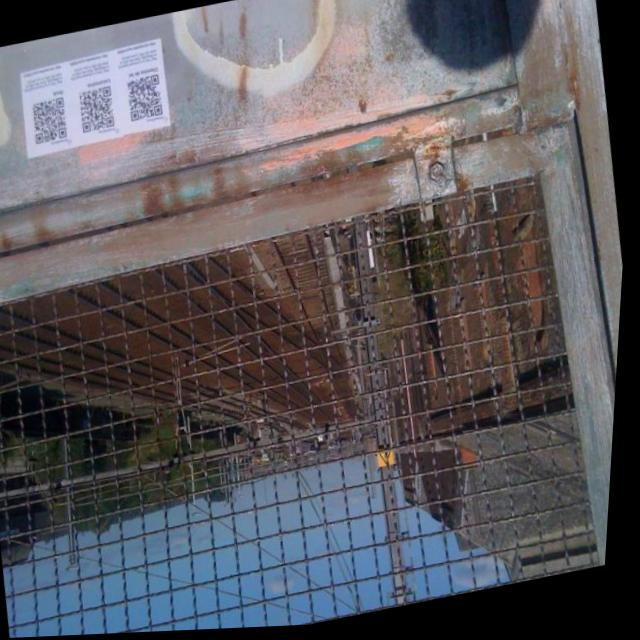qrcode: (32, 98, 71, 145), (126, 77, 165, 123), (80, 87, 118, 134)
